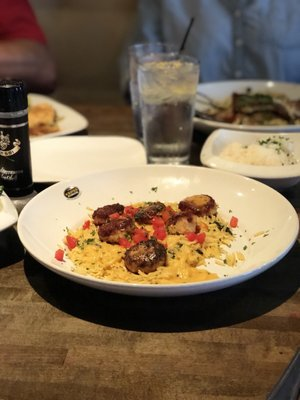sushi: (43, 163, 299, 296), (198, 128, 300, 190), (195, 79, 300, 131)
